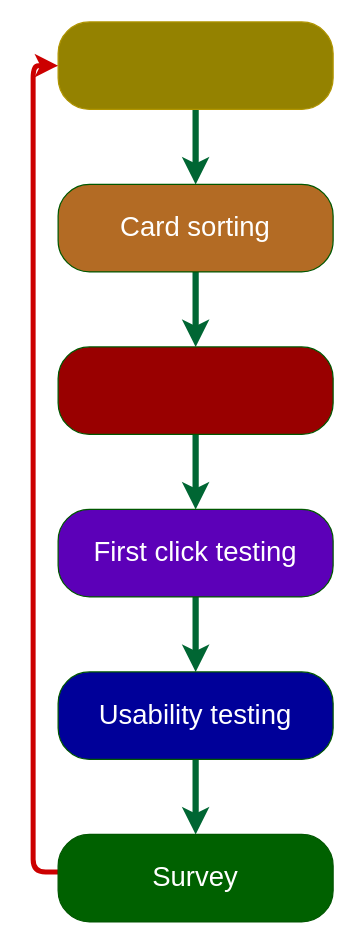
Image size: 355x944. Some labels were removed from this diagram. Each missing label, with the centre of its shape:
"Discussion group" goes at pixel 195 65.
"Tree testing" goes at pixel 195 390.
